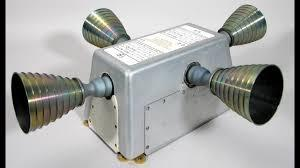thruster: (10, 72, 95, 135), (209, 62, 284, 126), (217, 3, 268, 46), (82, 6, 129, 48)
